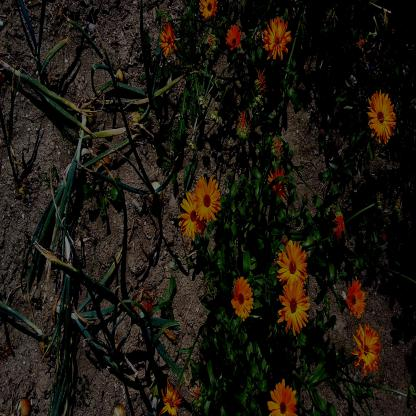marigold: (278, 279, 310, 336), (367, 87, 397, 144), (351, 321, 381, 377), (278, 238, 308, 289), (192, 174, 221, 223), (262, 14, 292, 61), (179, 190, 206, 238), (266, 378, 298, 416), (232, 273, 253, 322), (266, 164, 288, 204), (346, 279, 366, 318), (158, 21, 178, 55), (224, 22, 242, 50), (199, 0, 219, 20)
